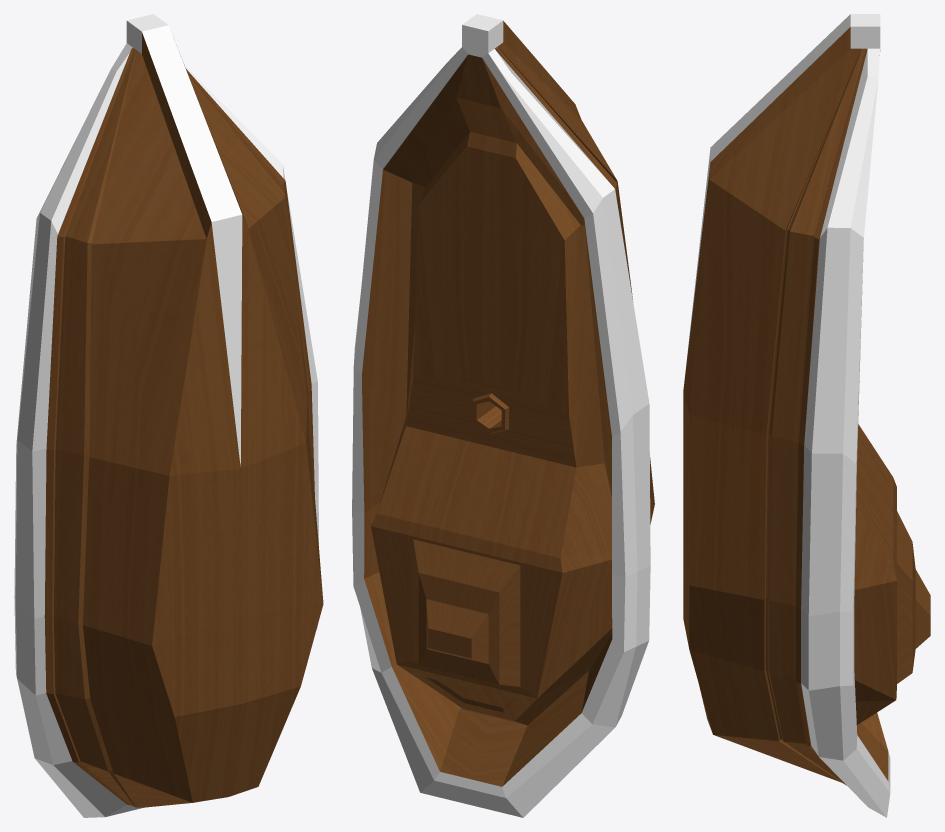
Rendered from body_3.fbx.
3 views of the same model, side by side, from view 1: azimuth 30°, elevation 25°; view 2: azimuth 150°, elevation 25°; view 3: azimuth 270°, elevation 25° (orthographic). The views are drawn at different scales.
Visible parts, largest first — view 1: Cube.048; view 2: Cube.048; view 3: Cube.048.
Boxes of the visible parts, box(x1,y1,x2,y2) form: Cube.048: box(14, 14, 323, 817); Cube.048: box(352, 14, 654, 817); Cube.048: box(683, 14, 930, 817).
Bounding box in the file's own units: 115 × 298 × 86.5.
